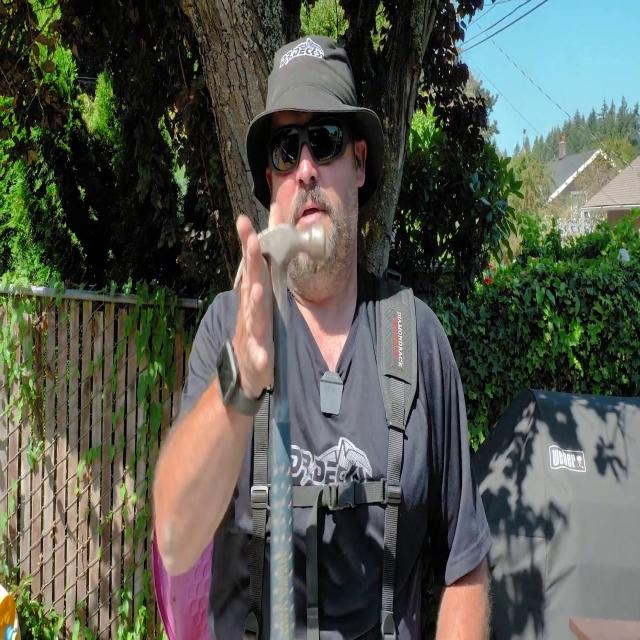hammer: (233, 223, 328, 640)
